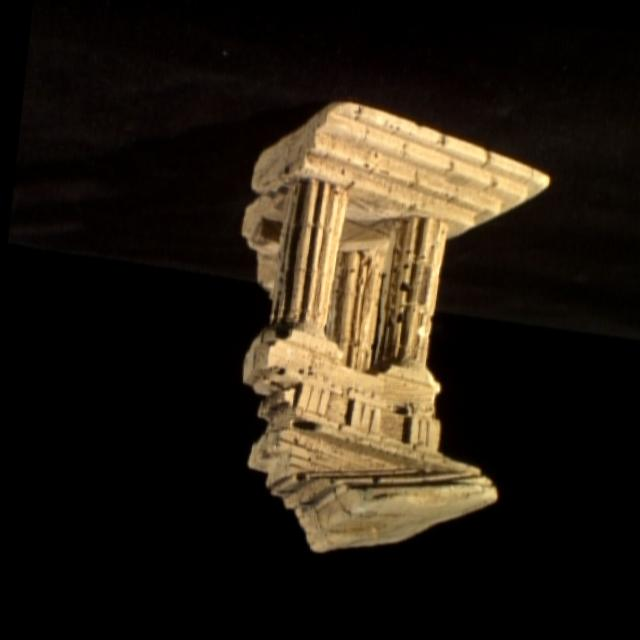Instance-Segmentation: (242, 103, 548, 550)
